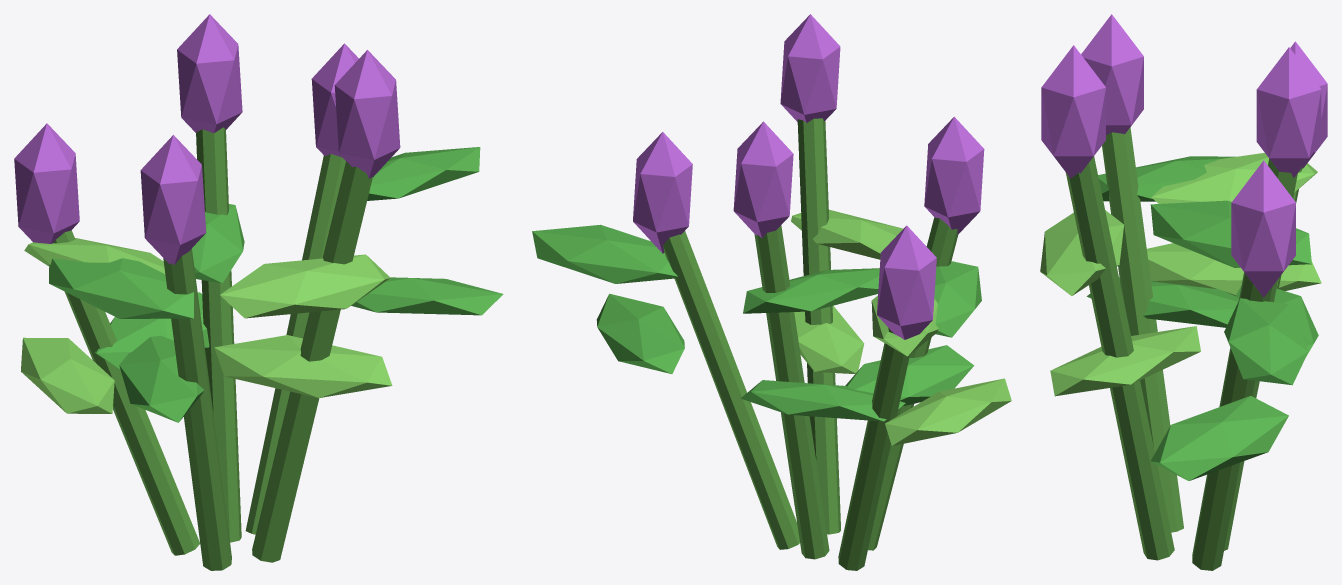
File: Mint.glb
The picture shows the model from 3 angles, left to right: view 1: azimuth 30°, elevation 25°; view 2: azimuth 150°, elevation 25°; view 3: azimuth 270°, elevation 25°; orthographic projection. The views are drawn at different scales.
Visible parts, largest first — view 1: FTF_Plant_Mint_Mature_Mesh; view 2: FTF_Plant_Mint_Mature_Mesh; view 3: FTF_Plant_Mint_Mature_Mesh.
Part boxes in pixels (x1,y1,x2,y2): FTF_Plant_Mint_Mature_Mesh: [14, 14, 503, 570]; FTF_Plant_Mint_Mature_Mesh: [532, 14, 1011, 570]; FTF_Plant_Mint_Mature_Mesh: [1040, 14, 1327, 570].
Bounding box in the file's own units: 0.8846 × 0.9438 × 0.454.
